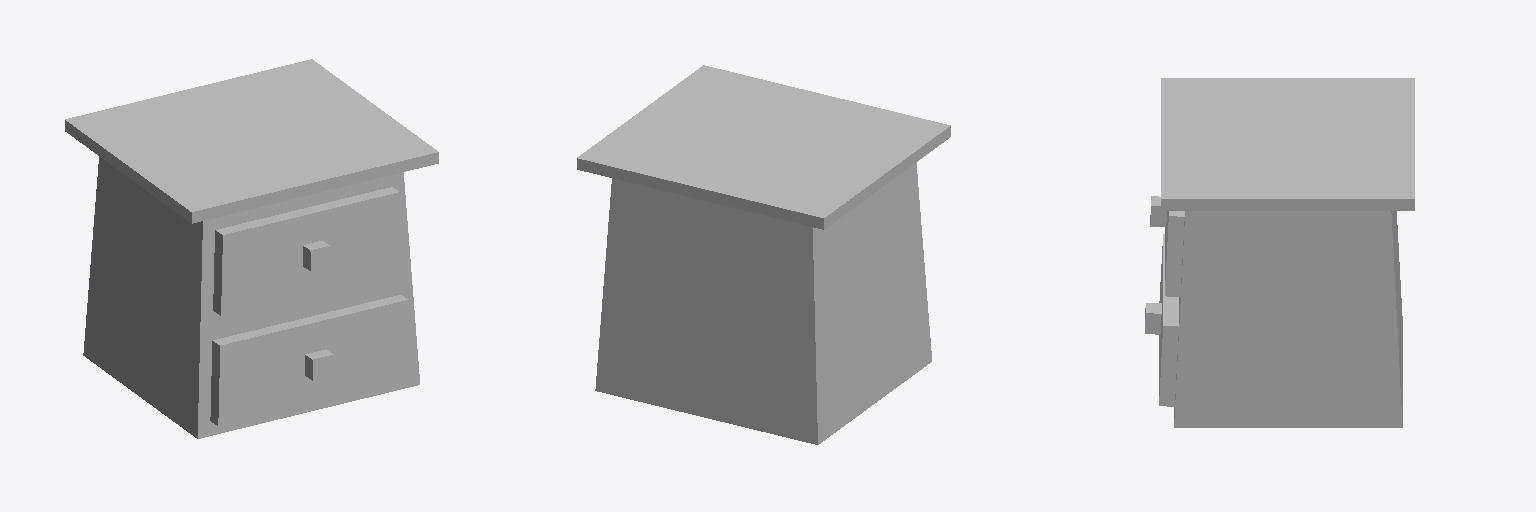
File: small_dresser.obj
The picture shows the model from 3 angles: view 1: azimuth 30°, elevation 25°; view 2: azimuth 150°, elevation 25°; view 3: azimuth 270°, elevation 25°; orthographic projection.
Parts seen in each view (by area): view 1: Cube; view 2: Cube; view 3: Cube.
Part boxes in pixels (x1,y1,x2,y2): Cube: (65, 59, 438, 438); Cube: (577, 65, 950, 444); Cube: (1145, 78, 1414, 427).
Size of the model in its own units: 0.9 by 0.815 by 0.8525.